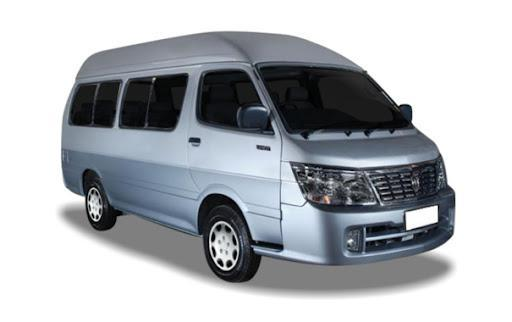van: (61, 27, 458, 278)
